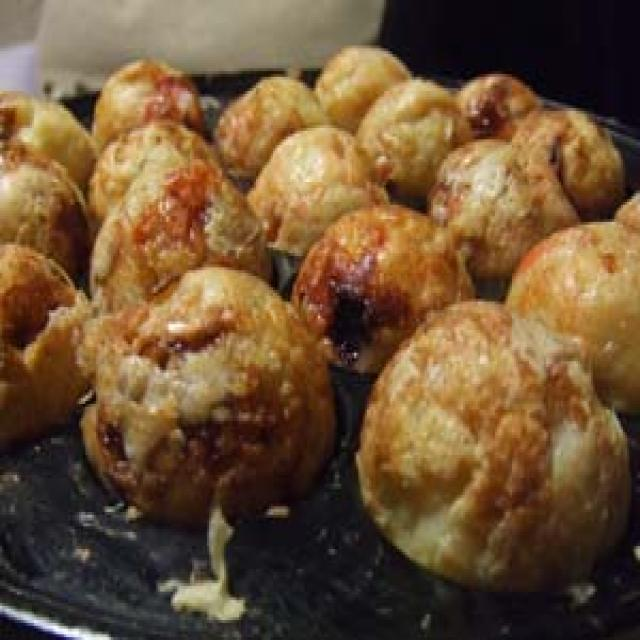炸货点心: (0, 20, 640, 609)
